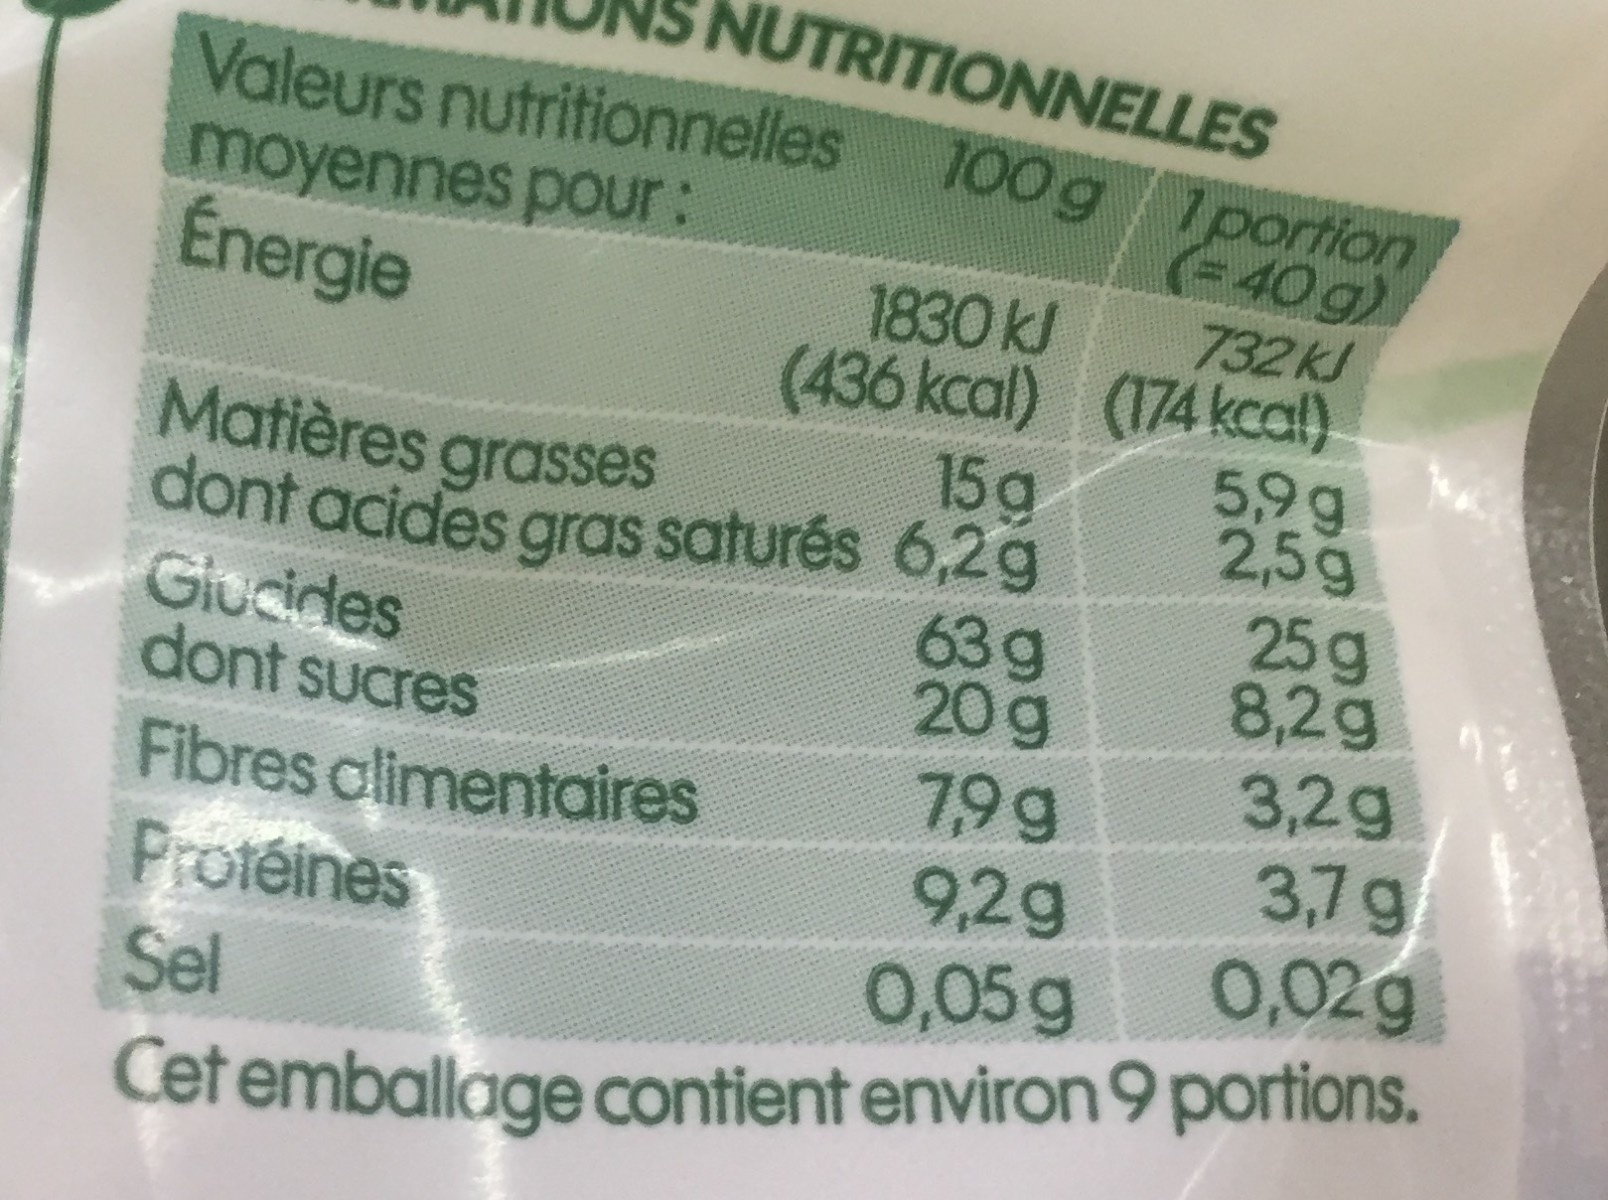column: (126, 166, 1108, 1010), (1132, 184, 1419, 1041)
table: (118, 4, 1448, 1061)
